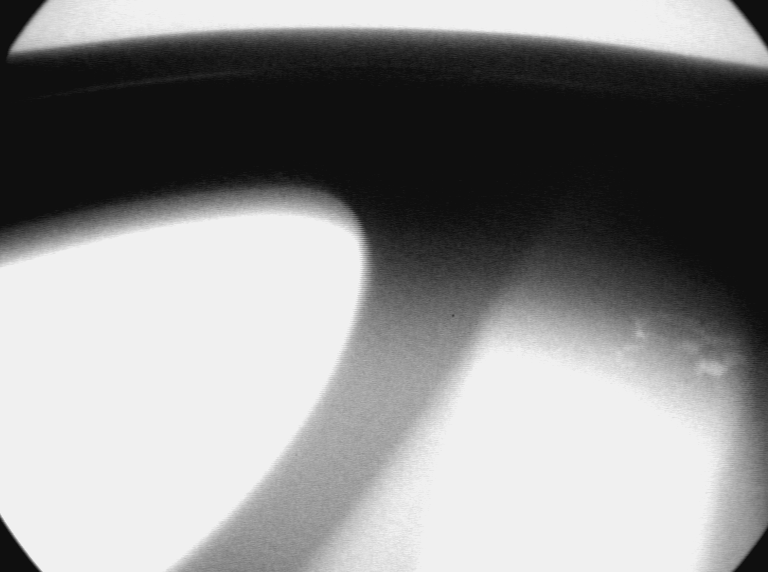defect: (620, 298, 760, 402)
